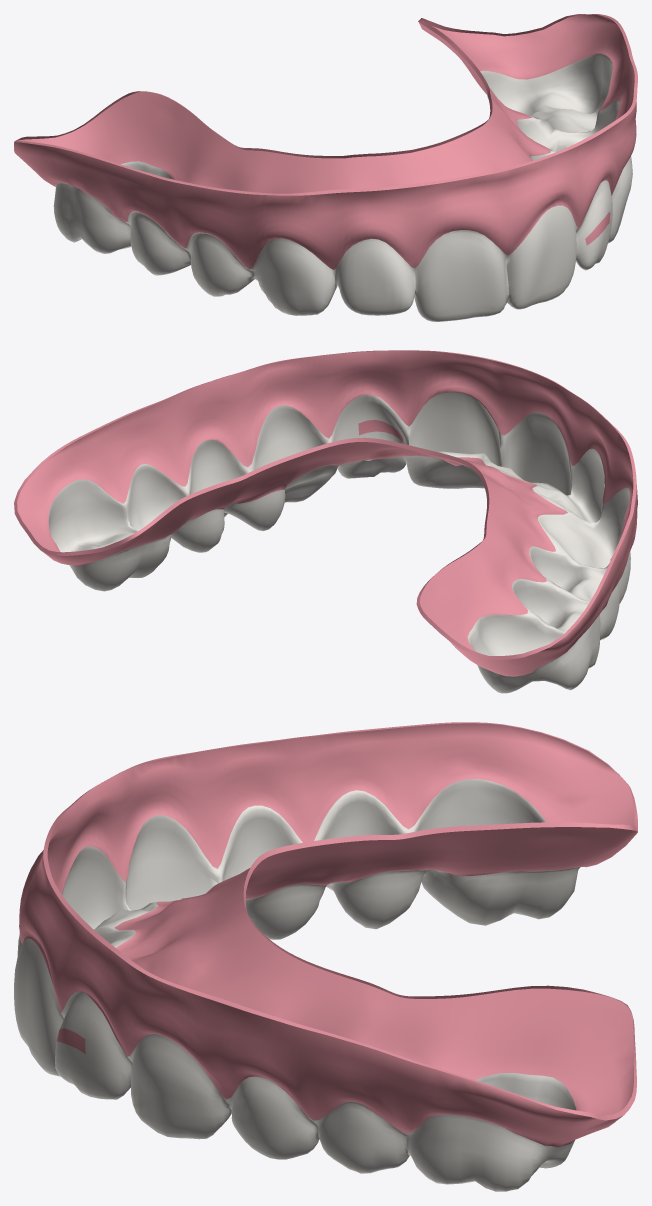
File: Mouth_LessGums.fbx
The picture shows the model from 3 angles, top to bottom: view 1: azimuth 30°, elevation 25°; view 2: azimuth 150°, elevation 25°; view 3: azimuth 270°, elevation 25°; orthographic projection. The views are drawn at different scales.
Parts seen in each view (by area): view 1: Upper_Arch_NoBase; view 2: Upper_Arch_NoBase; view 3: Upper_Arch_NoBase.
Part boxes in pixels (left/top/right/bottom): Upper_Arch_NoBase: left=14, top=14, right=637, bottom=321; Upper_Arch_NoBase: left=14, top=350, right=637, bottom=693; Upper_Arch_NoBase: left=14, top=722, right=637, bottom=1191.
Bounding box in the file's own units: 26.92 × 6.6 × 19.54.
